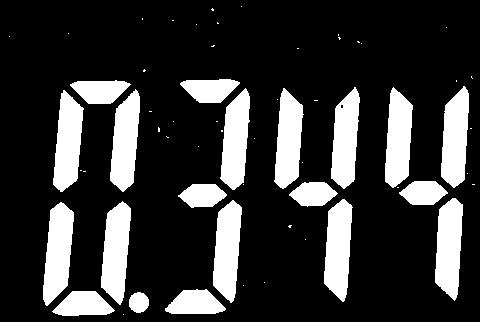0: (39, 75, 143, 319)
3: (165, 74, 253, 316)
4: (381, 81, 475, 305), (272, 80, 364, 305)
dot: (128, 290, 151, 314)
